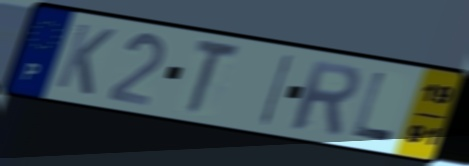2: (104, 31, 169, 110)
I: (256, 51, 297, 128)
K: (52, 20, 119, 98)
L: (350, 69, 397, 144)
R: (289, 57, 363, 137)
T: (184, 37, 244, 117)
